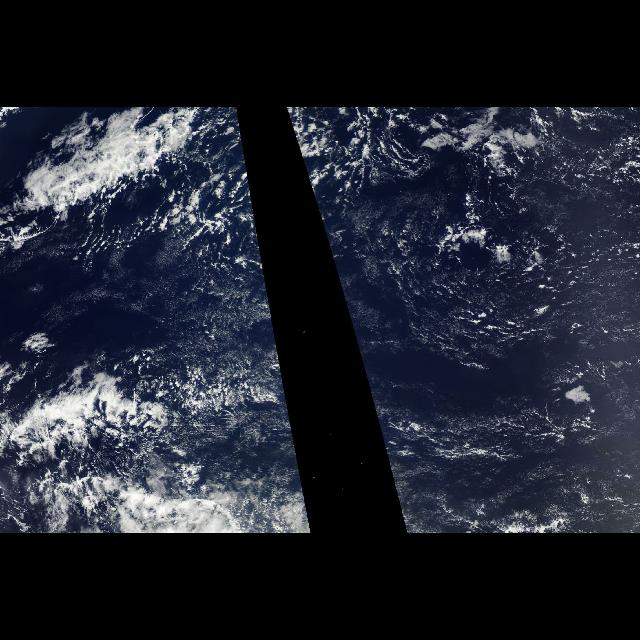Fish: (3, 112, 258, 232), (3, 372, 249, 468)
Gravel: (286, 107, 638, 351), (218, 107, 250, 193)
Sugar: (365, 200, 635, 376), (381, 405, 624, 531), (87, 229, 280, 363)
